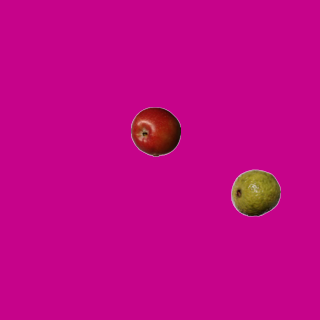Apple Braeburn: (130, 106, 180, 156)
Guava: (230, 167, 280, 217)
